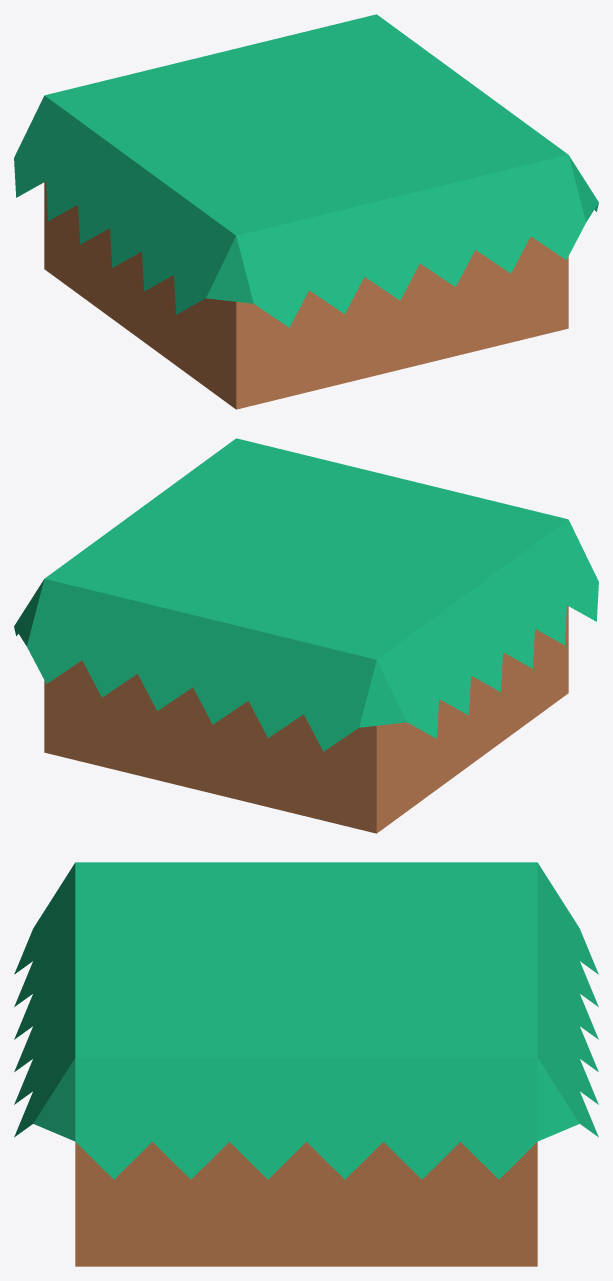
File: block.glb
3 views of the same model, one above another, from view 1: azimuth 30°, elevation 25°; view 2: azimuth 150°, elevation 25°; view 3: azimuth 270°, elevation 25° (orthographic). The views are drawn at different scales.
Parts seen in each view (by area): view 1: mergedBlocks(Clone); view 2: mergedBlocks(Clone); view 3: mergedBlocks(Clone).
Boxes of the visible parts, x1,y1,x2,y2 form: mergedBlocks(Clone): [14, 14, 598, 409]; mergedBlocks(Clone): [14, 438, 598, 833]; mergedBlocks(Clone): [14, 862, 598, 1266].
Bounding box in the file's own units: 1.27 × 0.5 × 1.27.
